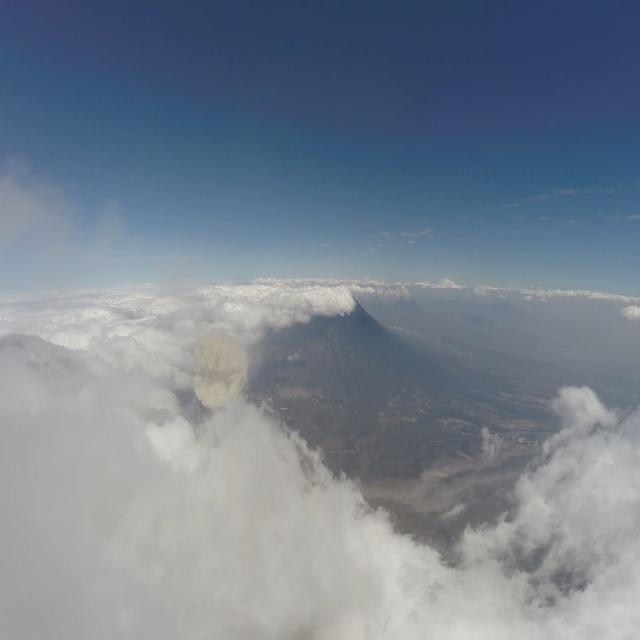Plume: (189, 319, 254, 414)
